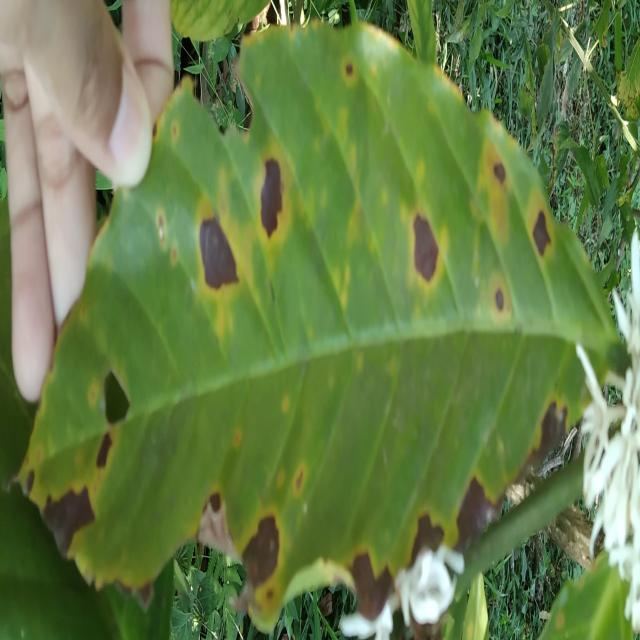Enfermedad-Mancha-de-hierro: (15, 19, 635, 640)
